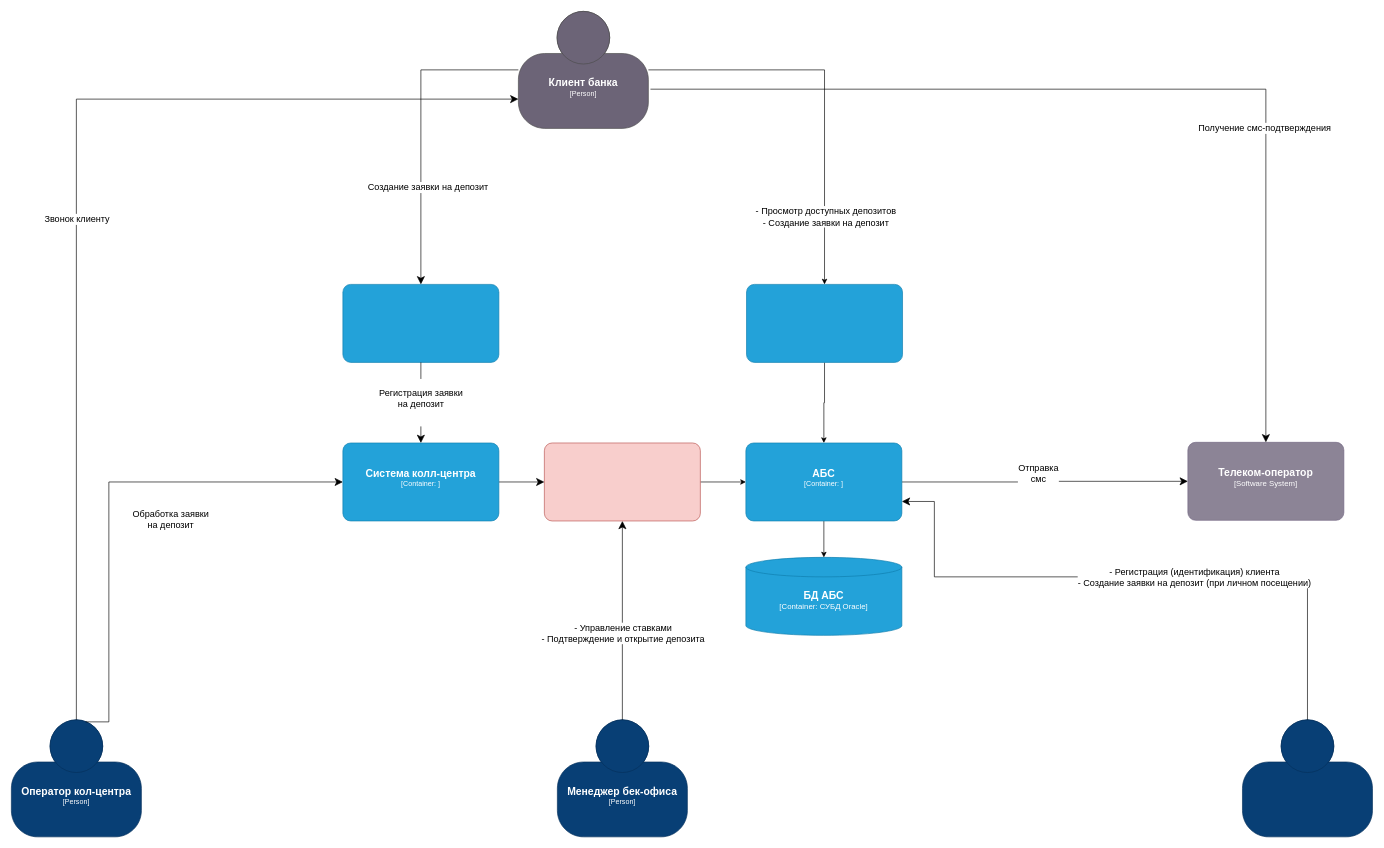
Some shapes in this 1384 by 848 pixel diagram are drawn without their labels. The shapes that lost their labels are listed below. From the top down, each one's centre as x and y in pixels, then its label:
[420,323]: Сайт банка [Container: ]
[824,323]: Интернет-банк [Container: ]
[622,481]: Сервис депозитов [Container: .NET Framework 4.5]
[1307,778]: Сотрудник отделения банка [Person]
